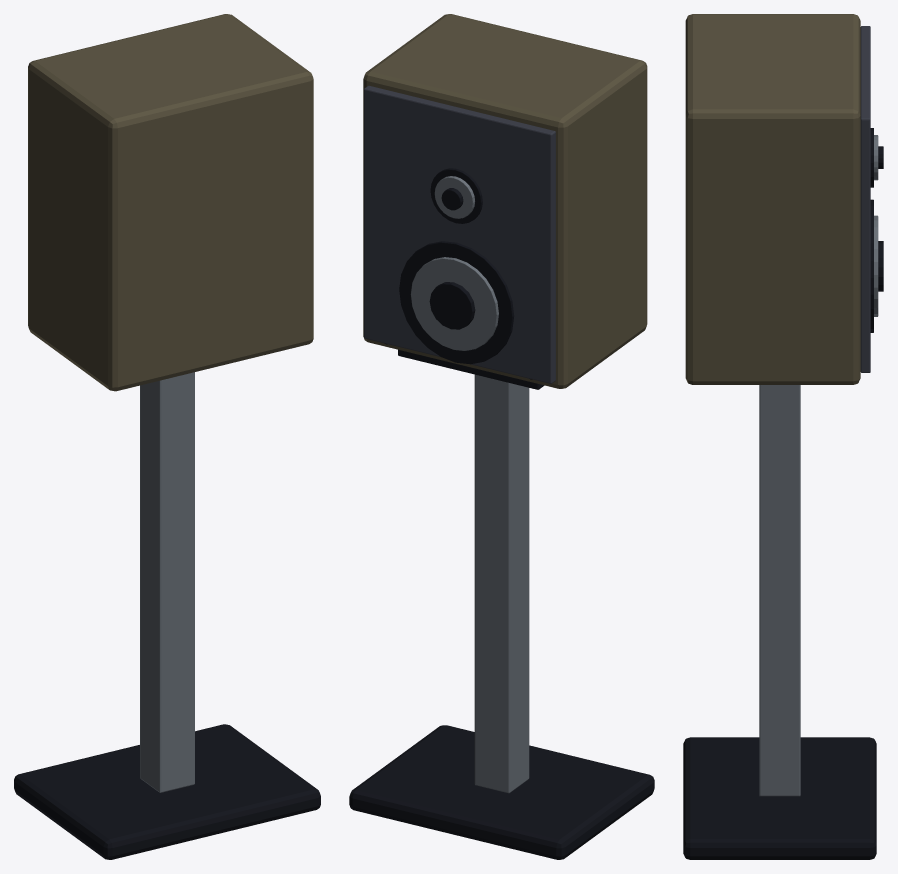
File: monitor_speaker.glb
3 renders of one model, left to right at view 1: azimuth 30°, elevation 25°; view 2: azimuth 150°, elevation 25°; view 3: azimuth 270°, elevation 25°, orthographic.
Parts seen in each view (by area): view 1: monitor_speaker; view 2: monitor_speaker; view 3: monitor_speaker.
Boxes of the visible parts, left/top/right/bottom form: monitor_speaker: left=14, top=14, right=320, bottom=859; monitor_speaker: left=349, top=14, right=654, bottom=859; monitor_speaker: left=683, top=14, right=883, bottom=859.
Size of the model in its own units: 0.55 by 1.79 by 0.435.
